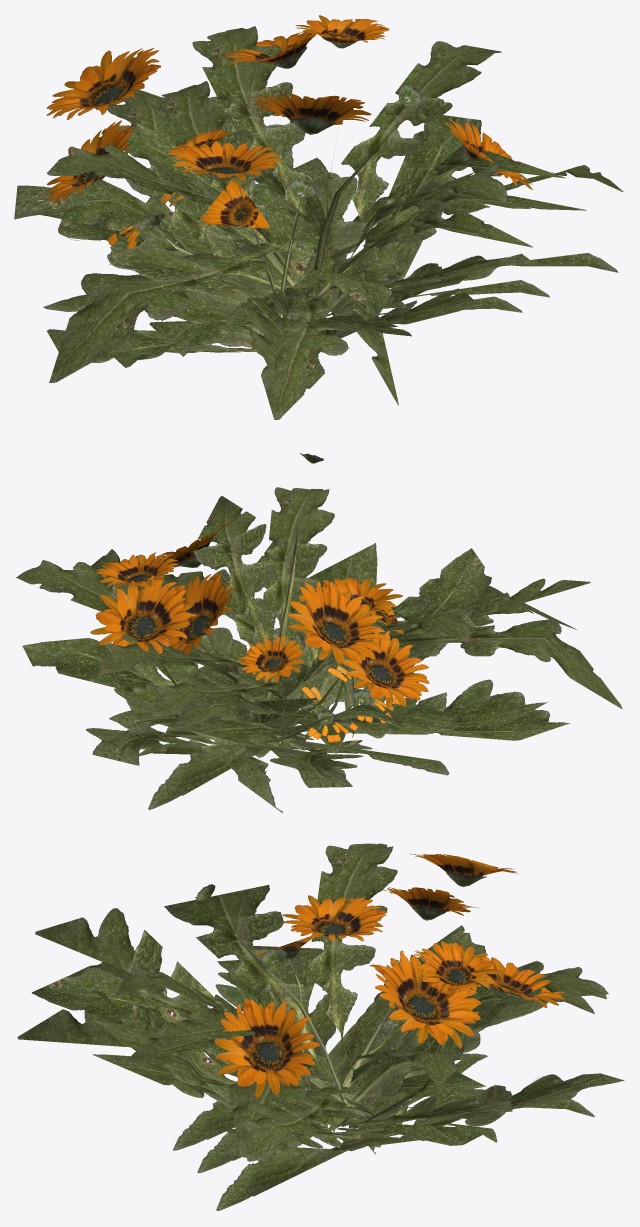
The model's file is gazania.glb.
3 renders of one model, top to bottom at view 1: azimuth 30°, elevation 25°; view 2: azimuth 150°, elevation 25°; view 3: azimuth 270°, elevation 25°, orthographic. The views are drawn at different scales.
Visible parts, largest first — view 1: flower_gazania_h_LOD0, flower_gazania_g_LOD0, flower_gazania_f_LOD0, flower_gazania_e_LOD0; view 2: flower_gazania_h_LOD0, flower_gazania_f_LOD0, flower_gazania_g_LOD0, flower_gazania_e_LOD0; view 3: flower_gazania_h_LOD0, flower_gazania_f_LOD0, flower_gazania_g_LOD0, flower_gazania_e_LOD0.
Part boxes in pixels (box(x1,y1,x2,y2)): flower_gazania_h_LOD0: box(46, 15, 623, 405); flower_gazania_g_LOD0: box(109, 30, 549, 419); flower_gazania_f_LOD0: box(14, 89, 586, 373); flower_gazania_e_LOD0: box(26, 129, 535, 331); flower_gazania_h_LOD0: box(16, 453, 622, 809); flower_gazania_f_LOD0: box(155, 548, 590, 787); flower_gazania_g_LOD0: box(90, 522, 576, 742); flower_gazania_e_LOD0: box(114, 578, 449, 813); flower_gazania_h_LOD0: box(17, 843, 624, 1210); flower_gazania_f_LOD0: box(31, 887, 608, 1150); flower_gazania_g_LOD0: box(57, 936, 594, 1172); flower_gazania_e_LOD0: box(147, 895, 497, 1162).
Bounding box in the file's own units: 0.3361 × 0.1507 × 0.3163.
Materials: 1 (1 with a texture image).
